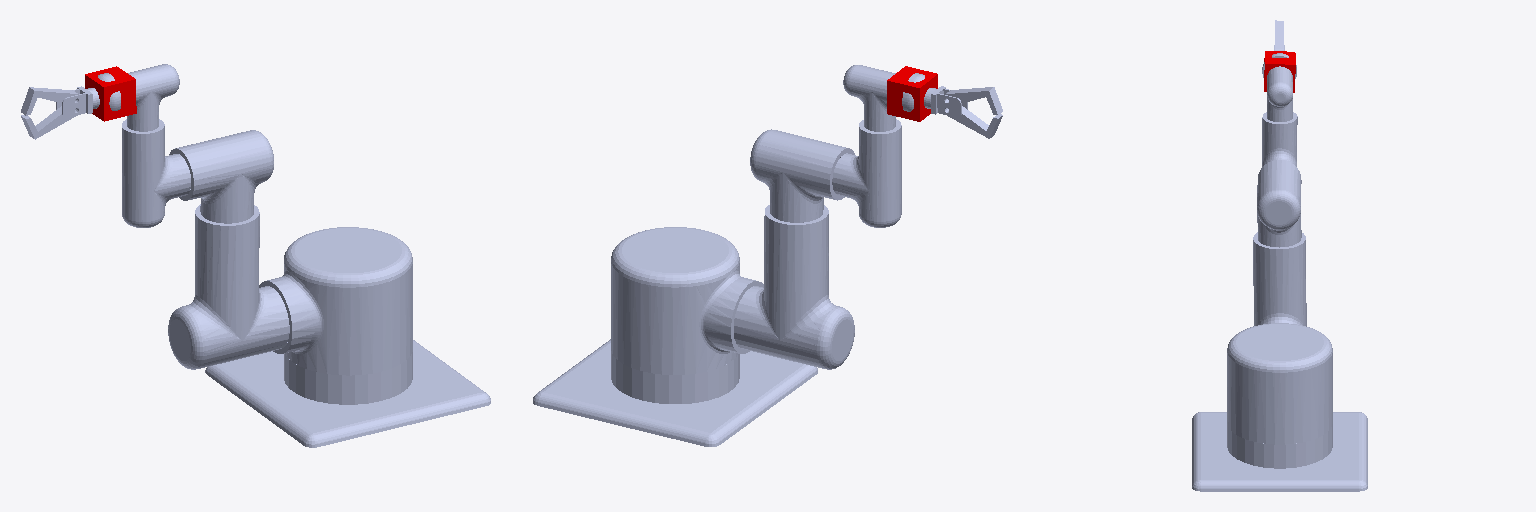
robot.urdf — assembly_updated:
<?xml version="1.0" encoding="utf-8" ?>
<!-- This URDF was automatically created by SolidWorks to URDF Exporter! Originally created by [author] ([email redacted]) 
     Commit Version: 1.6.0-4-g7f85cfe  Build Version: 1.6.7995.38578
     For more information, please see http://wiki.ros.org/sw_urdf_exporter -->
<robot name="assembly_updated">
    <link name="base_link">
        <inertial>
            <origin xyz="0.0511874225642531 0.00917031601175412 0.0917772872008491" rpy="0 0 0" />
            <mass value="0.486315620435472" />
            <inertia ixx="0.00142292035024589" ixy="-1.43363939938813E-20" ixz="-7.94093388050906E-20" iyy="0.00275798103898688" iyz="-1.80004055881598E-21" izz="0.00142292035024589" />
        </inertial>
        <visual>
            <origin xyz="0 0 0" rpy="0 0 0" />
            <geometry>
                <mesh filename="package://assembly_updated/meshes/base_link.STL" />
            </geometry>
            <material name="">
                <color rgba="0.792156862745098 0.819607843137255 0.933333333333333 1" />
            </material>
        </visual>
        <collision>
            <origin xyz="0 0 0" rpy="0 0 0" />
            <geometry>
                <mesh filename="package://assembly_updated/meshes/base_link.STL" />
            </geometry>
        </collision>
    </link>
    <link name="link_1">
        <inertial>
            <origin xyz="0.000371402876640212 0.0620331791943652 7.24625859316319E-10" rpy="0 0 0" />
            <mass value="0.491258939579974" />
            <inertia ixx="0.00108199771610291" ixy="2.19635454409838E-06" ixz="1.34987940643191E-10" iyy="0.00126802521683161" iyz="6.09549828201527E-10" izz="0.00110960320990222" />
        </inertial>
        <visual>
            <origin xyz="0 0 0" rpy="0 0 0" />
            <geometry>
                <mesh filename="package://assembly_updated/meshes/link_1.STL" />
            </geometry>
            <material name="">
                <color rgba="0.792156862745098 0.819607843137255 0.933333333333333 1" />
            </material>
        </visual>
        <collision>
            <origin xyz="0 0 0" rpy="0 0 0" />
            <geometry>
                <mesh filename="package://assembly_updated/meshes/link_1.STL" />
            </geometry>
        </collision>
    </link>
    <joint name="joint_1" type="revolute">
        <origin xyz="0.051187 -0.091777 0.04" rpy="1.5708 0 3.1388" />
        <parent link="base_link" />
        <child link="link_1" />
        <axis xyz="0 1 0" />
        <limit lower="-1.571" upper="1.571" effort="2" velocity="1" />
    </joint>
    <link name="link_2">
        <inertial>
            <origin xyz="0.0289943195171383 0.0568486100165289 1.26480761850067E-07" rpy="0 0 0" />
            <mass value="0.208387979497517" />
            <inertia ixx="0.000222334046545224" ixy="4.03667516623074E-05" ixz="-1.1016149040531E-10" iyy="0.000429437249477532" iyz="1.16859517291928E-09" izz="0.000508155692718364" />
        </inertial>
        <visual>
            <origin xyz="0 0 0" rpy="0 0 0" />
            <geometry>
                <mesh filename="package://assembly_updated/meshes/link_2.STL" />
            </geometry>
            <material name="">
                <color rgba="0.792156862745098 0.819607843137255 0.933333333333333 1" />
            </material>
        </visual>
        <collision>
            <origin xyz="0 0 0" rpy="0 0 0" />
            <geometry>
                <mesh filename="package://assembly_updated/meshes/link_2.STL" />
            </geometry>
        </collision>
    </link>
    <joint name="joint_2" type="revolute">
        <origin xyz="0.079832 0.05 0" rpy="3.1416 0.0073478 1.5708" />
        <parent link="link_1" />
        <child link="link_2" />
        <axis xyz="0 1 0" />
        <limit lower="-1.0472" upper="1.0472" effort="2" velocity="1" />
    </joint>
    <link name="link_3">
        <inertial>
            <origin xyz="-0.0431848622992911 4.85532884192119E-05 1.8719965939884E-07" rpy="0 0 0" />
            <mass value="0.089383086543131" />
            <inertia ixx="8.32514464515729E-05" ixy="7.81536535261813E-08" ixz="-2.84890023124903E-10" iyy="6.01219753260373E-05" iyz="-6.14920608029138E-10" izz="9.84697478165186E-05" />
        </inertial>
        <visual>
            <origin xyz="0 0 0" rpy="0 0 0" />
            <geometry>
                <mesh filename="package://assembly_updated/meshes/link_3.STL" />
            </geometry>
            <material name="">
                <color rgba="0.792156862745098 0.819607843137255 0.933333333333333 1" />
            </material>
        </visual>
        <collision>
            <origin xyz="0 0 0" rpy="0 0 0" />
            <geometry>
                <mesh filename="package://assembly_updated/meshes/link_3.STL" />
            </geometry>
        </collision>
    </link>
    <joint name="joint_3" type="revolute">
        <origin xyz="0.11963 0.050168 0" rpy="0.0050277 0 3.1416" />
        <parent link="link_2" />
        <child link="link_3" />
        <axis xyz="1 0 0" />
        <limit lower="-1.0472" upper="1.0472" effort="2" velocity="1" />
    </joint>
    <link name="link_4">
        <inertial>
            <origin xyz="-0.0355975518981105 -0.00557957957230715 7.55897378162951E-08" rpy="0 0 0" />
            <mass value="0.0703589994827295" />
            <inertia ixx="6.73703275888567E-05" ixy="-1.85137403840303E-06" ixz="-1.3036176586546E-10" iyy="2.82599859659185E-05" iyz="-2.40157052919979E-11" izz="7.40120709748435E-05" />
        </inertial>
        <visual>
            <origin xyz="0 0 0" rpy="0 0 0" />
            <geometry>
                <mesh filename="package://assembly_updated/meshes/link_4.STL" />
            </geometry>
            <material name="">
                <color rgba="0.792156862745098 0.819607843137255 0.933333333333333 1" />
            </material>
        </visual>
        <collision>
            <origin xyz="0 0 0" rpy="0 0 0" />
            <geometry>
                <mesh filename="package://assembly_updated/meshes/link_4.STL" />
            </geometry>
        </collision>
    </link>
    <joint name="joint_4" type="revolute">
        <origin xyz="-0.050371 -0.049687 0" rpy="3.1312 0 1.5708" />
        <parent link="link_3" />
        <child link="link_4" />
        <axis xyz="1 0 0" />
        <limit lower="-2.0944" upper="2.0944" effort="2" velocity="1" />
    </joint>
    <link name="link_5">
        <inertial>
            <origin xyz="-0.0329511889516693 -0.00199473382826465 6.80392034380084E-10" rpy="0 0 0" />
            <mass value="0.0394563167810635" />
            <inertia ixx="1.78966197769914E-05" ixy="-5.55096567309373E-07" ixz="-1.50465446505514E-11" iyy="1.16595738683922E-05" iyz="-1.35522584908036E-11" izz="2.30764734470938E-05" />
        </inertial>
        <visual>
            <origin xyz="0 0 0" rpy="0 0 0" />
            <geometry>
                <mesh filename="package://assembly_updated/meshes/link_5.STL" />
            </geometry>
            <material name="">
                <color rgba="0.792156862745098 0.819607843137255 0.933333333333333 1" />
            </material>
        </visual>
        <collision>
            <origin xyz="0 0 0" rpy="0 0 0" />
            <geometry>
                <mesh filename="package://assembly_updated/meshes/link_5.STL" />
            </geometry>
        </collision>
    </link>
    <joint name="joint_5" type="revolute">
        <origin xyz="-0.040313 -0.059996 0" rpy="3.126 0 1.5708" />
        <parent link="link_4" />
        <child link="link_5" />
        <axis xyz="1 0 0" />
        <limit lower="-1.571" upper="1.571" effort="2" velocity="1" />
    </joint>
    <link name="link_6">
        <inertial>
            <origin xyz="1.04840922054983E-09 0.00777547083760657 1.28782395858451E-09" rpy="0 0 0" />
            <mass value="0.0121377105901444" />
            <inertia ixx="1.42887902133567E-06" ixy="-1.28519766960993E-14" ixz="1.48964829828357E-13" iyy="2.51126588819895E-06" iyz="-2.45877376877824E-14" izz="1.42887908030941E-06" />
        </inertial>
        <visual>
            <origin xyz="0 0 0" rpy="0 0 0" />
            <geometry>
                <mesh filename="package://assembly_updated/meshes/link_6.STL" />
            </geometry>
            <material name="">
                <color rgba="0.792156862745098 0.819607843137255 0.933333333333333 1" />
            </material>
        </visual>
        <collision>
            <origin xyz="0 0 0" rpy="0 0 0" />
            <geometry>
                <mesh filename="package://assembly_updated/meshes/link_6.STL" />
            </geometry>
        </collision>
    </link>
    <joint name="joint_6" type="continuous">
        <origin xyz="-0.040004 -0.035004 0" rpy="3.1416 1.5537 0" />
        <parent link="link_5" />
        <child link="link_6" />
        <axis xyz="0 1 0" />
        <limit lower="-3.142" upper="3.142" effort="2" velocity="1" />
    </joint>
    <link name="sensor_link">
        <visual>
            <geometry>
                <box size="0.035 0.035 0.035" />
            </geometry>
            <material name="">
                <color rgba="1 0 0 1" />
            </material>
        </visual>
        <collision>
            <geometry>
                <box size="0.035 0.035 0.035" />
            </geometry>
        </collision>
        <inertial>
            <mass value="0.1" />
            <origin xyz="0 0 0" rpy="0 0 0" />
            <inertia ixx="0.03" iyy="0.03" izz="0.03" ixy="0.0" ixz="0.0" iyz="0.0" />
        </inertial>
    </link>
    <joint name="sensor_joint" type="fixed">
        <parent link="link_6" />
        <child link="sensor_link" />
        <origin xyz="0 0 0" rpy="0 0 0" />
    </joint>
    <gazebo>
        <plugin name="ft_sensor" filename="libgazebo_ros_ft_sensor.so">
            <robotNamespace>/assembly_updated</robotNamespace>
            <topicName>force_torque_values</topicName>
            <frameName>sensor_link</frameName>
            <jointName>joint_6</jointName>
            <alwaysOn>true</alwaysOn>
            <visualize>true</visualize>
            <updateRate>100</updateRate>
            <gaussianNoise>0.001</gaussianNoise>
        </plugin>
        <plugin name="gazebo_ros_control">
            <robotNamespace>/</robotNamespace>
        </plugin>
    </gazebo>
    <link name="gripper_link">
        <inertial>
            <origin xyz="-1.22124532708767E-15 0.0179674346745936 3.01147995429574E-15" rpy="0 0 0" />
            <mass value="0.00531349540849361" />
            <inertia ixx="7.1166594424335E-07" ixy="1.06127272590553E-21" ixz="8.9335506155727E-23" iyy="3.64876483532759E-07" iyz="-1.1745964698253E-22" izz="7.11080677326989E-07" />
        </inertial>
        <visual>
            <origin xyz="0 0 0" rpy="0 0 0" />
            <geometry>
                <mesh filename="package://assembly_updated/meshes/gripper_link.STL" />
            </geometry>
            <material name="">
                <color rgba="0.792156862745098 0.819607843137255 0.933333333333333 1" />
            </material>
        </visual>
        <collision>
            <origin xyz="0 0 0" rpy="0 0 0" />
            <geometry>
                <mesh filename="package://assembly_updated/meshes/gripper_link.STL" />
            </geometry>
        </collision>
    </link>
    <joint name="joint_7" type="fixed">
        <origin xyz="0 0.01 0" rpy="3.1416 -1.5651 -3.1416" />
        <parent link="link_6" />
        <child link="gripper_link" />
        <axis xyz="0 0 0" />
    </joint>
    <link name="holder_link_1">
        <inertial>
            <origin xyz="-0.00589969519864353 1.94289029309402E-15 0.0236262137299683" rpy="0 0 0" />
            <mass value="0.00563750620374092" />
            <inertia ixx="1.63582151713343E-06" ixy="-1.90251540887196E-22" ixz="2.25357079280254E-07" iyy="1.75729560379765E-06" iyz="1.42316424389748E-21" izz="2.15432523393236E-07" />
        </inertial>
        <visual>
            <origin xyz="0 0 0" rpy="0 0 0" />
            <geometry>
                <mesh filename="package://assembly_updated/meshes/holder_link_1.STL" />
            </geometry>
            <material name="">
                <color rgba="0.792156862745098 0.819607843137255 0.933333333333333 1" />
            </material>
        </visual>
        <collision>
            <origin xyz="0 0 0" rpy="0 0 0" />
            <geometry>
                <mesh filename="package://assembly_updated/meshes/holder_link_1.STL" />
            </geometry>
        </collision>
    </link>
    <joint name="joint_8" type="revolute">
        <origin xyz="0.005 0.029996 0" rpy="1.5708 0 3.1085" />
        <parent link="gripper_link" />
        <child link="holder_link_1" />
        <axis xyz="0 1 0" />
        <limit lower="-0.2617" upper="0.2617" effort="1" velocity="1" />
    </joint>
    <link name="holder_link_2">
        <inertial>
            <origin xyz="-0.00591610684893512 -4.74620343027254E-15 0.0232957873516614" rpy="0 0 0" />
            <mass value="0.0056375062037409" />
            <inertia ixx="1.63582151713343E-06" ixy="4.73147310380332E-22" ixz="2.25357079280253E-07" iyy="1.75729560379765E-06" iyz="-2.11354986264955E-21" izz="2.15432523393235E-07" />
        </inertial>
        <visual>
            <origin xyz="0 0 0" rpy="0 0 0" />
            <geometry>
                <mesh filename="package://assembly_updated/meshes/holder_link_2.STL" />
            </geometry>
            <material name="">
                <color rgba="0.792156862745098 0.819607843137255 0.933333333333333 1" />
            </material>
        </visual>
        <collision>
            <origin xyz="0 0 0" rpy="0 0 0" />
            <geometry>
                <mesh filename="package://assembly_updated/meshes/holder_link_2.STL" />
            </geometry>
        </collision>
    </link>
    <joint name="joint_9" type="revolute">
        <origin xyz="-0.0049945 0.030326 0" rpy="-1.5708 0 0.033085" />
        <parent link="gripper_link" />
        <child link="holder_link_2" />
        <axis xyz="0 1 0" />
        <limit lower="-0.2617" upper="0.2617" effort="1" velocity="1" />
    </joint>
    <transmission name="trans_joint_1">
        <type>transmission_interface/SimpleTransmission</type>
        <joint name="joint_1">
            <hardwareInterface>hardware_interface/PositionJointInterface</hardwareInterface>
        </joint>
        <actuator name="joint_1_motor">
            <hardwareInterface>hardware_interface/PositionJointInterface</hardwareInterface>
            <mechanicalReduction>1</mechanicalReduction>
        </actuator>
    </transmission>
    <transmission name="trans_joint_2">
        <type>transmission_interface/SimpleTransmission</type>
        <joint name="joint_2">
            <hardwareInterface>hardware_interface/PositionJointInterface</hardwareInterface>
        </joint>
        <actuator name="joint_2_motor">
            <hardwareInterface>hardware_interface/PositionJointInterface</hardwareInterface>
            <mechanicalReduction>1</mechanicalReduction>
        </actuator>
    </transmission>
    <transmission name="trans_joint_3">
        <type>transmission_interface/SimpleTransmission</type>
        <joint name="joint_3">
            <hardwareInterface>hardware_interface/PositionJointInterface</hardwareInterface>
        </joint>
        <actuator name="joint_3_motor">
            <hardwareInterface>hardware_interface/PositionJointInterface</hardwareInterface>
            <mechanicalReduction>1</mechanicalReduction>
        </actuator>
    </transmission>
    <transmission name="trans_joint_4">
        <type>transmission_interface/SimpleTransmission</type>
        <joint name="joint_4">
            <hardwareInterface>hardware_interface/PositionJointInterface</hardwareInterface>
        </joint>
        <actuator name="joint_4_motor">
            <hardwareInterface>hardware_interface/PositionJointInterface</hardwareInterface>
            <mechanicalReduction>1</mechanicalReduction>
        </actuator>
    </transmission>
    <transmission name="trans_joint_5">
        <type>transmission_interface/SimpleTransmission</type>
        <joint name="joint_5">
            <hardwareInterface>hardware_interface/PositionJointInterface</hardwareInterface>
        </joint>
        <actuator name="joint_5_motor">
            <hardwareInterface>hardware_interface/PositionJointInterface</hardwareInterface>
            <mechanicalReduction>1</mechanicalReduction>
        </actuator>
    </transmission>
    <transmission name="trans_joint_6">
        <type>transmission_interface/SimpleTransmission</type>
        <joint name="joint_6">
            <hardwareInterface>hardware_interface/PositionJointInterface</hardwareInterface>
        </joint>
        <actuator name="joint_6_motor">
            <hardwareInterface>hardware_interface/PositionJointInterface</hardwareInterface>
            <mechanicalReduction>1</mechanicalReduction>
        </actuator>
    </transmission>
    <transmission name="trans_joint_8">
        <type>transmission_interface/SimpleTransmission</type>
        <joint name="joint_8">
            <hardwareInterface>hardware_interface/EffortJointInterface</hardwareInterface>
        </joint>
        <actuator name="joint_8_motor">
            <hardwareInterface>hardware_interface/EffortJointInterface</hardwareInterface>
            <mechanicalReduction>1</mechanicalReduction>
        </actuator>
    </transmission>
    <transmission name="trans_joint_9">
        <type>transmission_interface/SimpleTransmission</type>
        <joint name="joint_9">
            <hardwareInterface>hardware_interface/EffortJointInterface</hardwareInterface>
        </joint>
        <actuator name="joint_9_motor">
            <hardwareInterface>hardware_interface/EffortJointInterface</hardwareInterface>
            <mechanicalReduction>1</mechanicalReduction>
        </actuator>
    </transmission>
</robot>

--- Render facts (derived) ---
3 views of the same robot in one strip: view 1: azimuth 30°, elevation 25°; view 2: azimuth 150°, elevation 25°; view 3: azimuth 270°, elevation 25° (orthographic).
Model assembly_updated with 11 links and 10 joints (7 revolute, 1 continuous, 2 fixed), rooted at base_link, posed all joints at 0.
Visible links, largest first — view 1: link_1, base_link, link_2, link_3, link_4, link_5, sensor_link, gripper_link, holder_link_1, holder_link_2; view 2: link_1, base_link, link_2, link_3, link_4, link_5, sensor_link, gripper_link, holder_link_1, holder_link_2; view 3: link_1, base_link, link_2, link_3, link_4, link_5, sensor_link.
Link boxes in pixels (x1,y1,x2,y2): link_1: (259, 227, 412, 375); base_link: (205, 340, 490, 447); link_2: (168, 204, 289, 369); link_3: (169, 130, 273, 223); link_4: (122, 119, 190, 227); link_5: (127, 64, 179, 131); sensor_link: (85, 66, 136, 121); gripper_link: (56, 86, 99, 117); holder_link_1: (21, 87, 78, 115); holder_link_2: (21, 106, 78, 139); link_1: (611, 227, 763, 374); base_link: (533, 339, 817, 446); link_2: (734, 205, 854, 369); link_3: (750, 129, 854, 222); link_4: (832, 119, 901, 227); link_5: (843, 65, 895, 131); sensor_link: (887, 66, 937, 121); gripper_link: (924, 86, 967, 117); holder_link_1: (945, 87, 1002, 114); holder_link_2: (945, 106, 1002, 138); link_1: (1227, 323, 1332, 444); base_link: (1192, 412, 1367, 491); link_2: (1253, 232, 1306, 326); link_3: (1257, 160, 1301, 246); link_4: (1262, 112, 1297, 166); link_5: (1267, 66, 1292, 121); sensor_link: (1264, 51, 1295, 92).
Bounding box of the posed robot: 0.4491 × 0.2 × 0.385 m (x, y, z).
Meshes: 10 distinct files referenced, 10 mesh visuals loaded (10 binary STL).